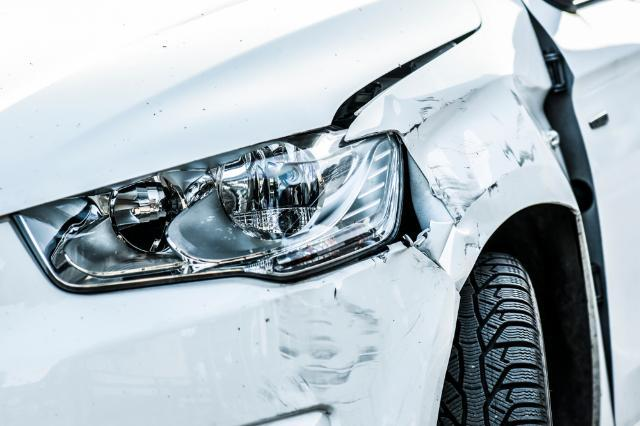dent: (404, 78, 549, 222), (266, 286, 373, 392)
lamp broken: (9, 132, 407, 293)
